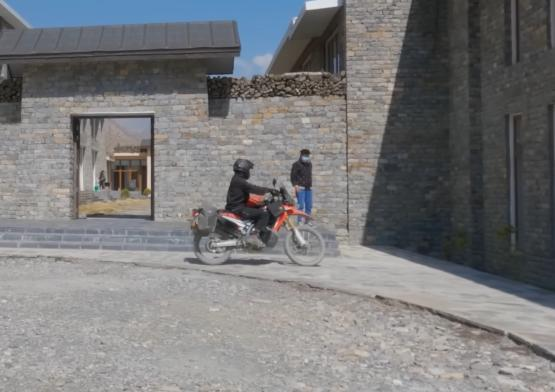bike: (184, 176, 328, 268)
